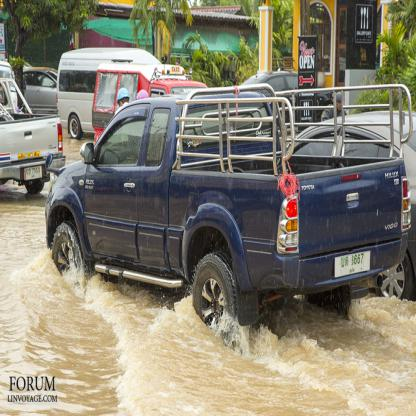Car: (288, 111, 416, 299), (23, 67, 58, 115)
Truck: (46, 83, 413, 349), (0, 77, 66, 194)
